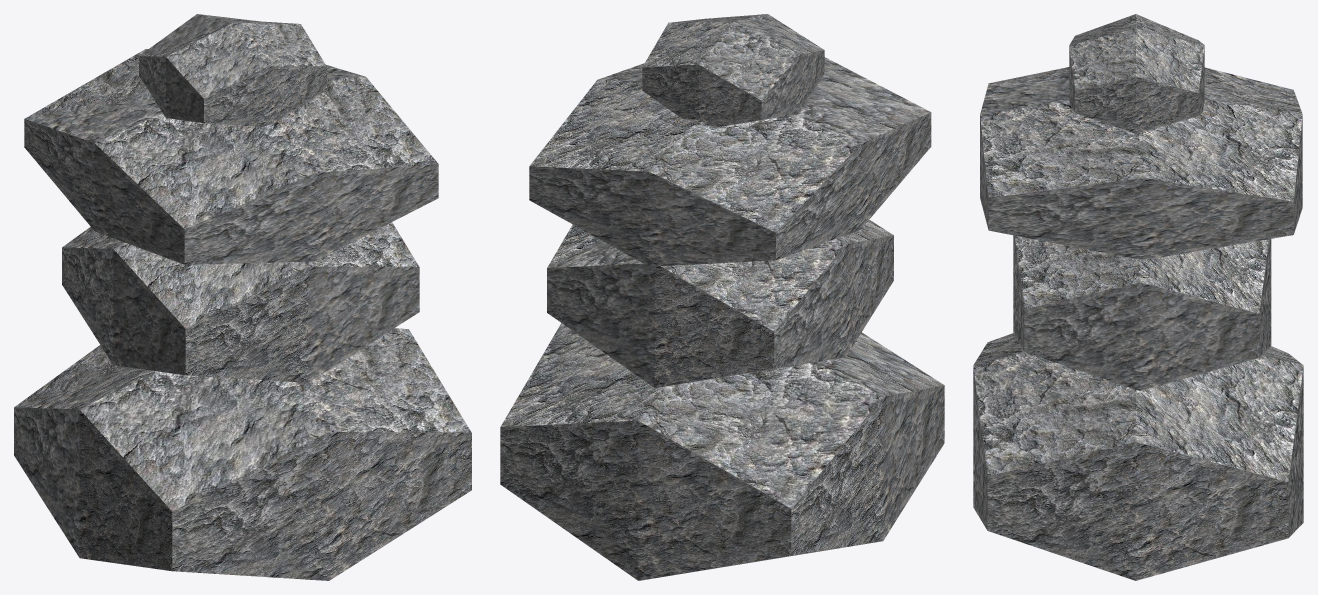
Rendered from rock pile textured 1.FBX.
3 views of the same model, side by side, from view 1: azimuth 30°, elevation 25°; view 2: azimuth 150°, elevation 25°; view 3: azimuth 270°, elevation 25° (orthographic). The views are drawn at different scales.
Visible parts, largest first — view 1: RockPile; view 2: RockPile; view 3: RockPile.
Boxes of the visible parts, box(x1,y1,x2,y2) form: RockPile: box(14, 14, 471, 580); RockPile: box(500, 14, 944, 580); RockPile: box(973, 14, 1303, 580).
Size of the model in its own units: 17.79 by 16.26 by 26.56.
Materials: 1 (1 with a texture image).
